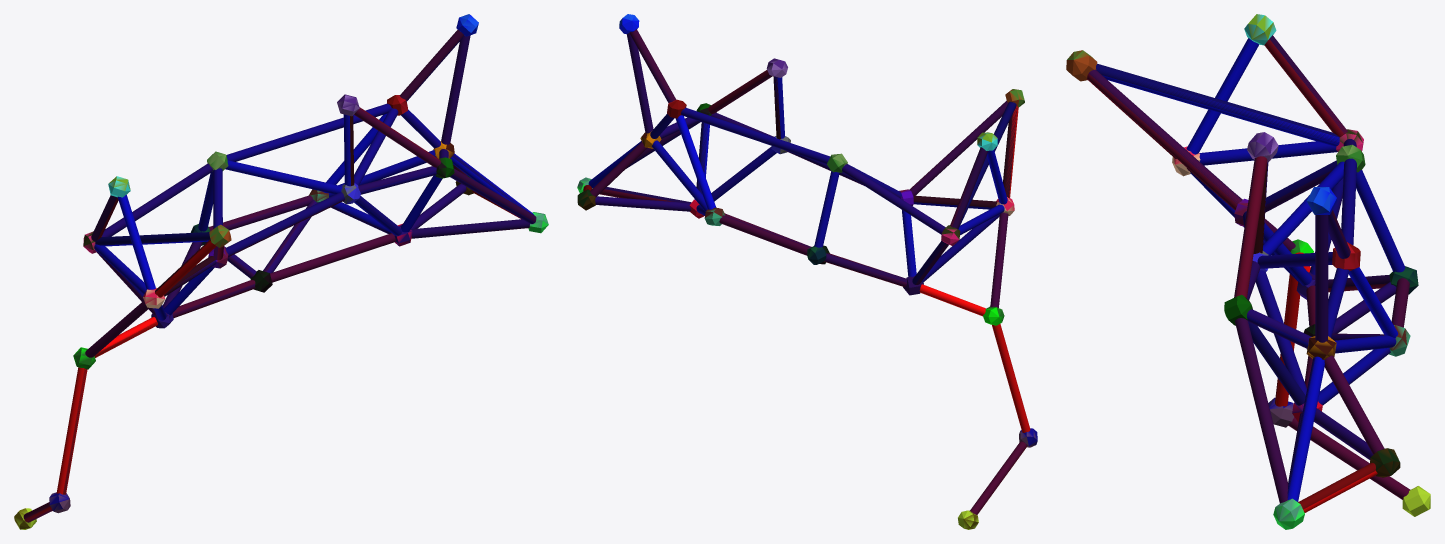
The model's file is pikachu_skel.glb.
3 renders of one model, left to right at view 1: azimuth 30°, elevation 25°; view 2: azimuth 150°, elevation 25°; view 3: azimuth 270°, elevation 25°, orthographic. The views are drawn at different scales.
Visible parts, largest first — view 1: fg-00012-skel; view 2: fg-00012-skel; view 3: fg-00012-skel.
Part boxes in pixels (x1,y1,x2,y2): fg-00012-skel: (14, 14, 548, 529); fg-00012-skel: (577, 14, 1037, 529); fg-00012-skel: (1066, 14, 1430, 529).
Bounding box in the file's own units: 0.2428 × 0.2044 × 0.1126.
Materials: 1 (1 with a texture image).
